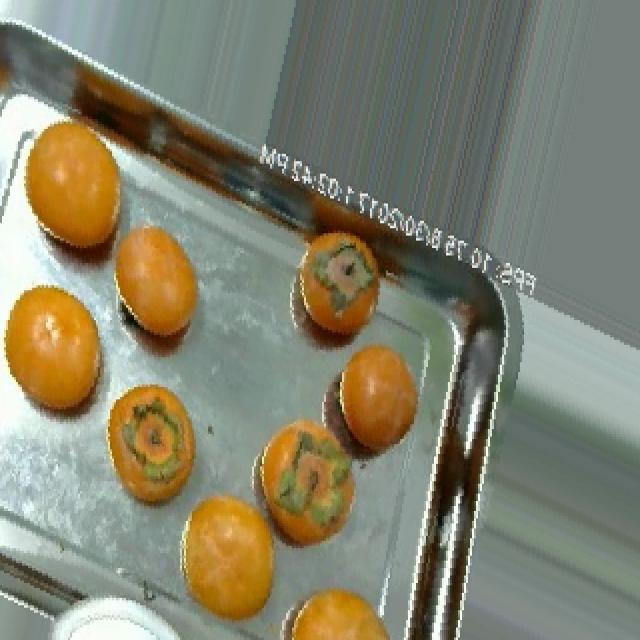Fruit: (2, 94, 144, 308), (240, 400, 380, 566), (166, 476, 298, 640), (0, 266, 110, 442), (94, 367, 214, 524), (320, 322, 440, 477), (108, 204, 218, 372), (276, 228, 398, 372), (278, 575, 400, 640)
